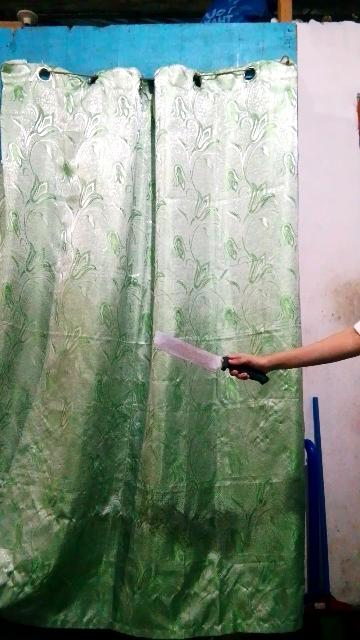long knife: (151, 316, 275, 392)
